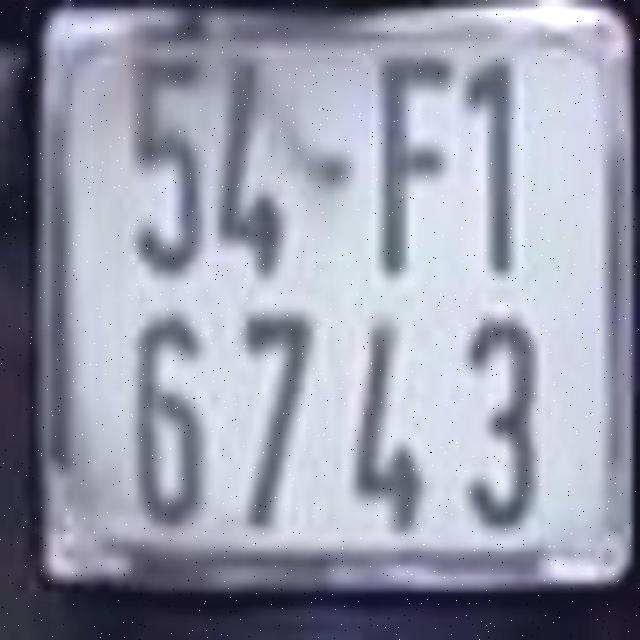1: (465, 53, 523, 276)
3: (462, 309, 540, 531)
4: (350, 313, 427, 535), (215, 54, 286, 280)
5: (128, 56, 204, 274)
6: (133, 311, 207, 527)
7: (238, 306, 313, 530)
F: (374, 50, 455, 277)
